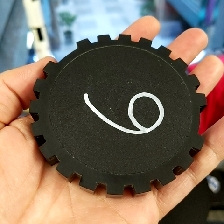gear: (27, 32, 208, 197)
missing: (43, 38, 91, 77), (189, 91, 208, 155)
